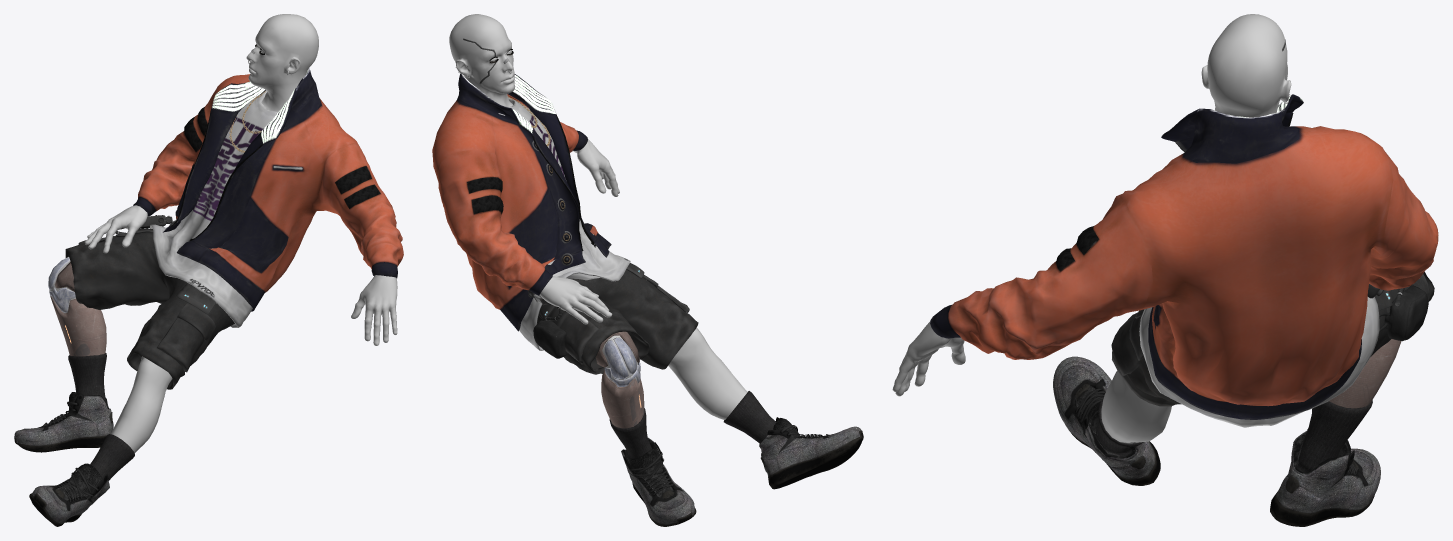
Rendered from SK_CP_Mid_A_AsStaticMesh.fbx.
The picture shows the model from 3 angles, left to right: view 1: azimuth 30°, elevation 25°; view 2: azimuth 150°, elevation 25°; view 3: azimuth 270°, elevation 25°; orthographic projection. The views are drawn at different scales.
Parts seen in each view (by area): view 1: SK_CP_Mid_A_AsStaticMesh_LOD0; view 2: SK_CP_Mid_A_AsStaticMesh_LOD0; view 3: SK_CP_Mid_A_AsStaticMesh_LOD0.
Boxes of the visible parts, left/top/right/bottom form: SK_CP_Mid_A_AsStaticMesh_LOD0: left=14, top=14, right=403, bottom=526; SK_CP_Mid_A_AsStaticMesh_LOD0: left=432, top=14, right=863, bottom=526; SK_CP_Mid_A_AsStaticMesh_LOD0: left=892, top=14, right=1438, bottom=526.
Bounding box in the file's own units: 136 × 114 × 152.
